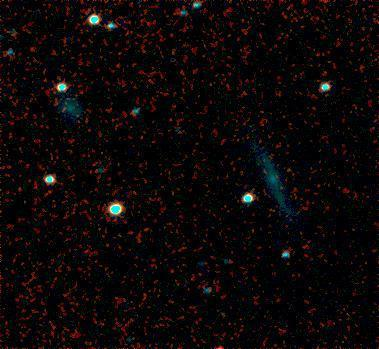star: (274, 153, 304, 183)
